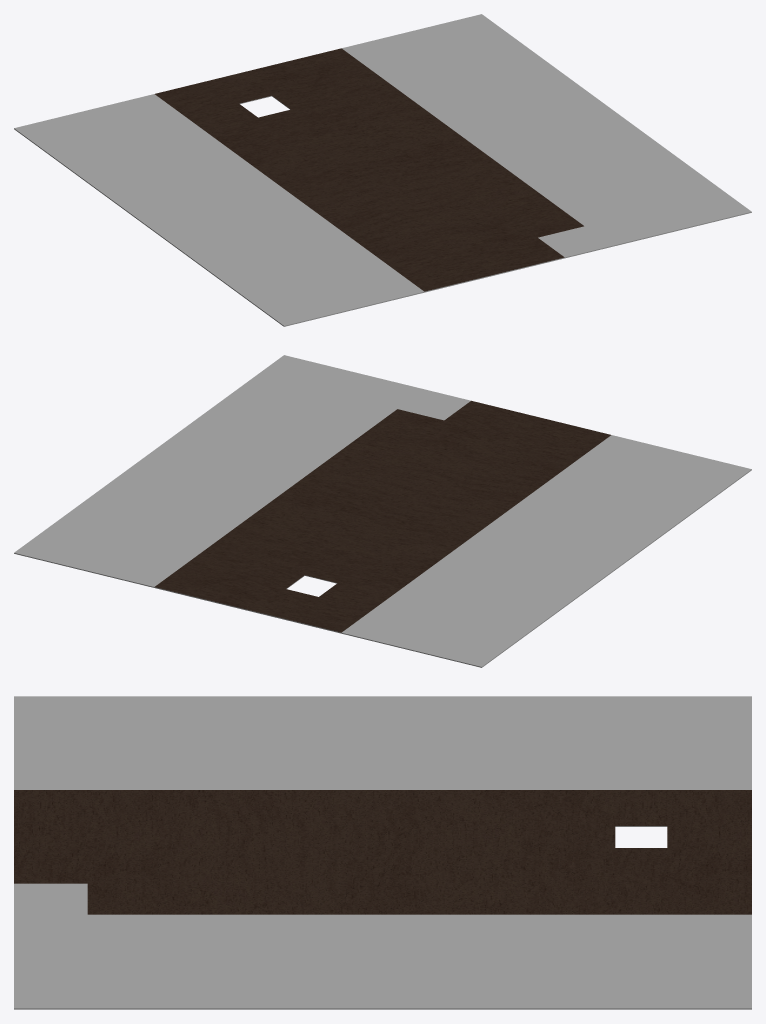
Rendered from casachaosotao.fbx.
3 renders of one model, top to bottom at view 1: azimuth 30°, elevation 25°; view 2: azimuth 150°, elevation 25°; view 3: azimuth 270°, elevation 25°, orthographic. The views are drawn at different scales.
Visible parts, largest first — view 1: pPlane8; view 2: pPlane8; view 3: pPlane8.
Boxes of the visible parts, bbox=[...] form: pPlane8: bbox=[14, 14, 751, 326]; pPlane8: bbox=[14, 355, 751, 667]; pPlane8: bbox=[14, 696, 751, 1009].
Size of the model in its own units: 22.89 by 0.046 by 22.89.
2 materials, 1 textured.
